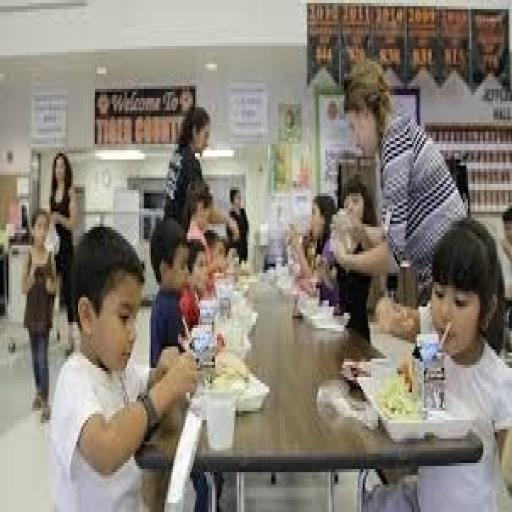eating: (48, 221, 200, 509)
